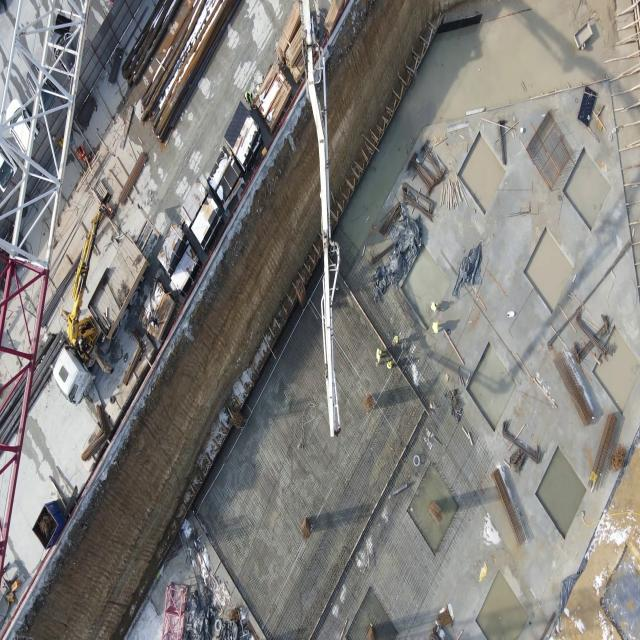p3rson: (78, 337, 90, 352), (244, 91, 252, 109), (428, 300, 438, 313), (375, 347, 382, 364), (150, 314, 158, 328), (392, 334, 399, 348), (432, 321, 438, 333)
